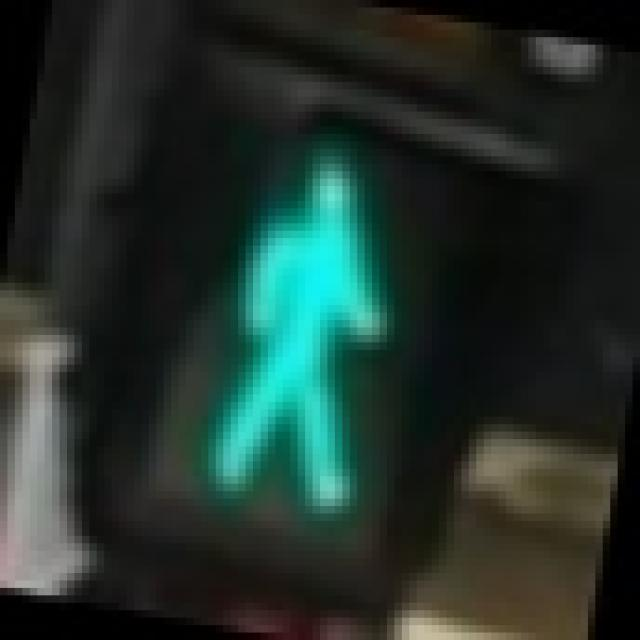green_light: (104, 67, 514, 551)
